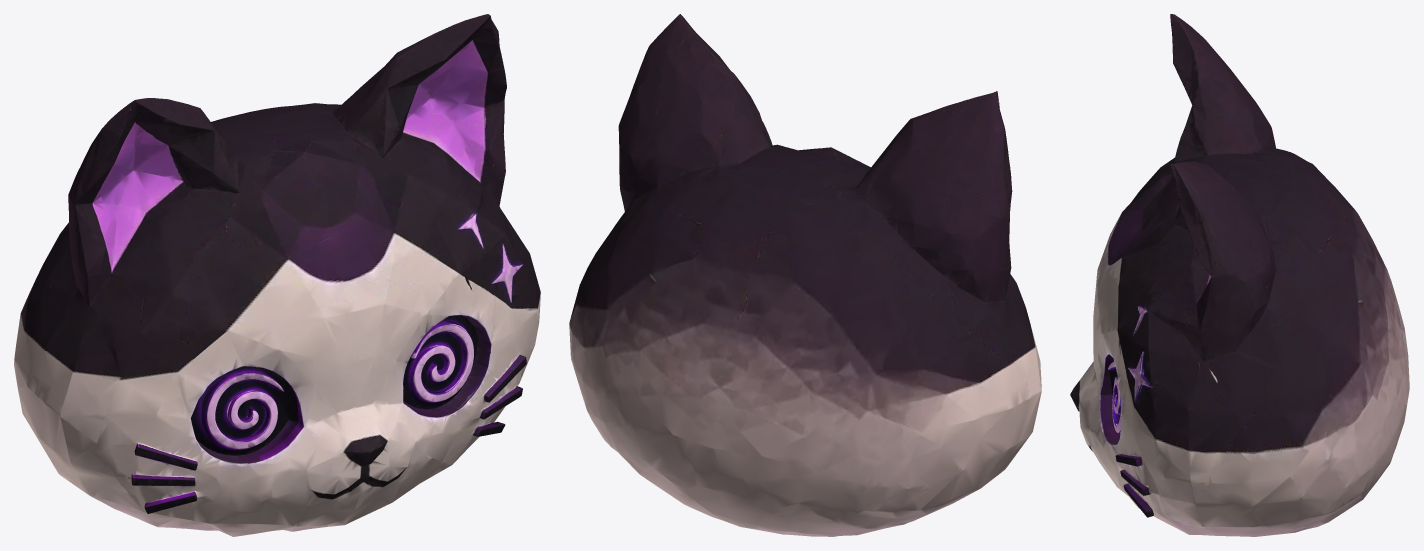
The model's file is cat.glb.
The picture shows the model from 3 angles, left to right: view 1: azimuth 30°, elevation 25°; view 2: azimuth 150°, elevation 25°; view 3: azimuth 270°, elevation 25°; orthographic projection. The views are drawn at different scales.
Bounding box in the file's own units: 1.9 × 1.79 × 1.34.
1 material, 1 textured.
